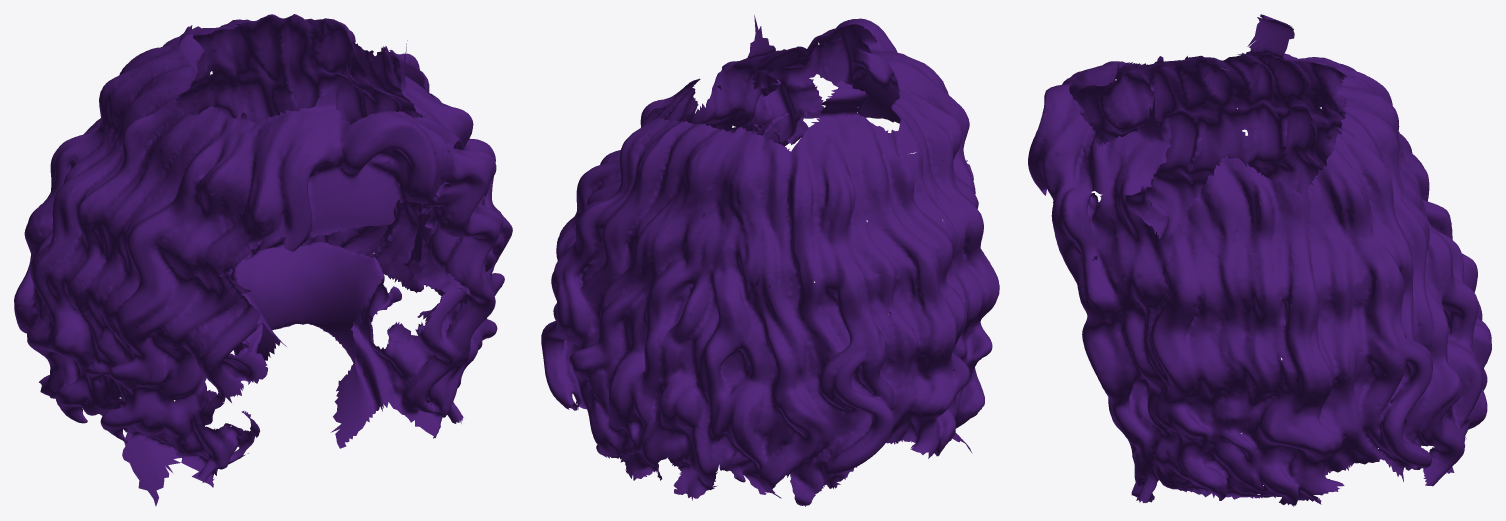
File: clementine_curly_hair.glb
The picture shows the model from 3 angles, left to right: view 1: azimuth 30°, elevation 25°; view 2: azimuth 150°, elevation 25°; view 3: azimuth 270°, elevation 25°; orthographic projection. The views are drawn at different scales.
Visible parts, largest first — view 1: Clementine Curly Hair; view 2: Clementine Curly Hair; view 3: Clementine Curly Hair.
Boxes of the visible parts, bbox=[...] form: Clementine Curly Hair: bbox=[14, 14, 512, 506]; Clementine Curly Hair: bbox=[541, 15, 999, 506]; Clementine Curly Hair: bbox=[1028, 14, 1491, 506].
Bounding box in the file's own units: 0.4351 × 0.4043 × 0.4102.
